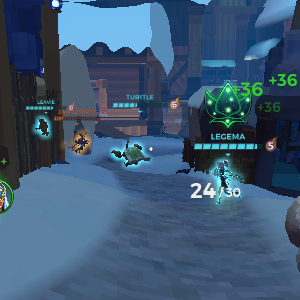model: (70, 128, 93, 158)
